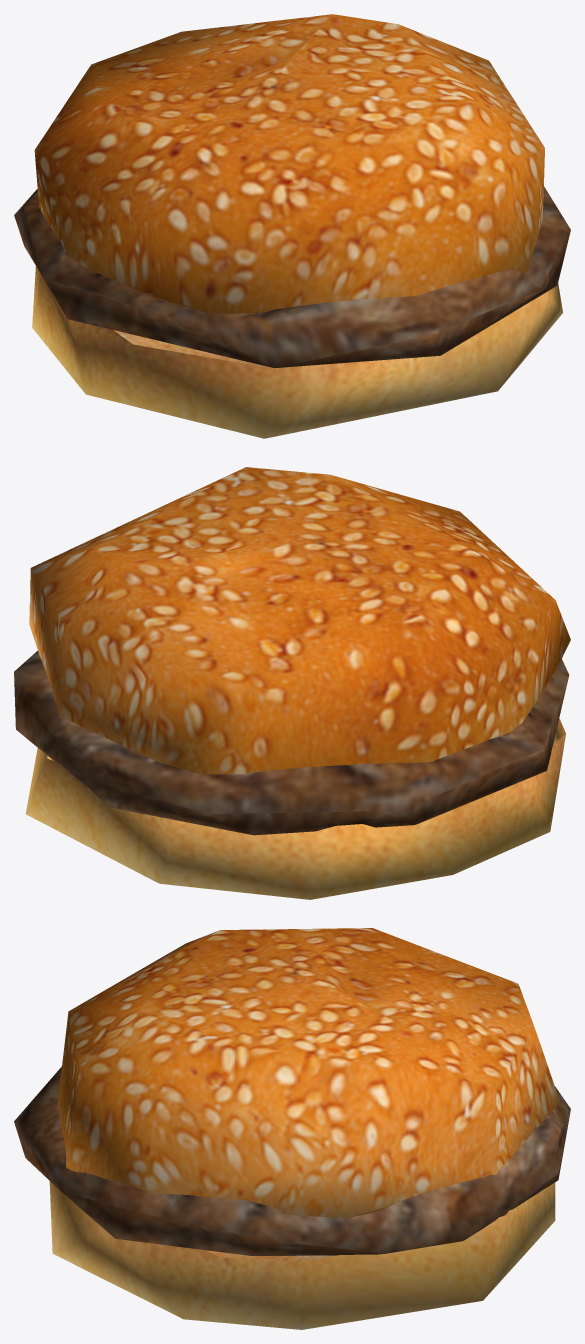
File: burger_SMOLL.fbx
The picture shows the model from 3 angles, top to bottom: view 1: azimuth 30°, elevation 25°; view 2: azimuth 150°, elevation 25°; view 3: azimuth 270°, elevation 25°; orthographic projection. The views are drawn at different scales.
Parts seen in each view (by area): view 1: burger_bun_01_LOD00, burger_bun_04_LOD00, chopped_steak__LOD00; view 2: burger_bun_01_LOD00, chopped_steak__LOD00, burger_bun_04_LOD00; view 3: burger_bun_01_LOD00, burger_bun_04_LOD00, chopped_steak__LOD00.
Boxes of the visible parts, <box> form: burger_bun_01_LOD00: <box>34,14,544,313</box>; burger_bun_04_LOD00: <box>32,266,562,438</box>; chopped_steak__LOD00: <box>14,186,570,368</box>; burger_bun_01_LOD00: <box>29,467,570,774</box>; chopped_steak__LOD00: <box>14,651,569,835</box>; burger_bun_04_LOD00: <box>25,718,565,899</box>; burger_bun_01_LOD00: <box>57,928,559,1218</box>; burger_bun_04_LOD00: <box>49,1181,555,1329</box>; chopped_steak__LOD00: <box>14,1066,570,1255</box>.
Bounding box in the file's own units: 14.41 × 7.01 × 14.71.
